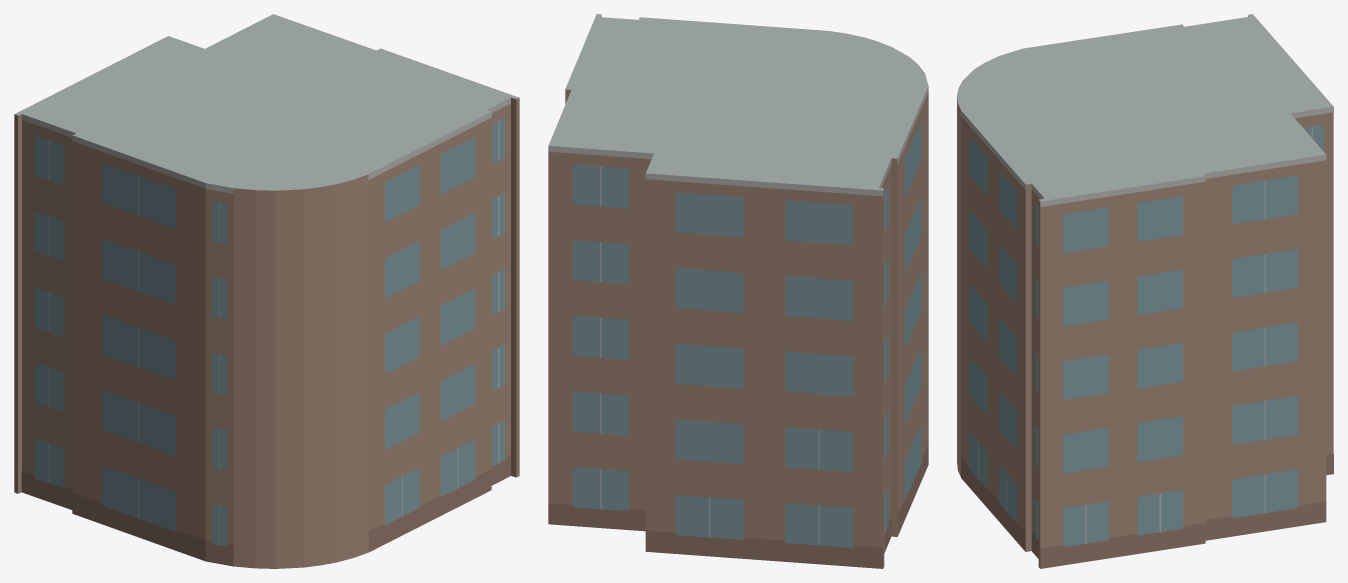
Rendered from survey-upis-32941871.glb.
3 views of the same model, side by side, from view 1: azimuth 30°, elevation 25°; view 2: azimuth 150°, elevation 25°; view 3: azimuth 270°, elevation 25° (orthographic). The views are drawn at different scales.
Visible parts, largest first — view 1: survey-upis-32941871.tmp; view 2: survey-upis-32941871.tmp; view 3: survey-upis-32941871.tmp.
Boxes of the visible parts, x1,y1,x2,y2 form: survey-upis-32941871.tmp: (14, 14, 519, 568); survey-upis-32941871.tmp: (548, 14, 928, 568); survey-upis-32941871.tmp: (957, 14, 1333, 568).
Bounding box in the file's own units: 17.47 × 15.95 × 14.83.
